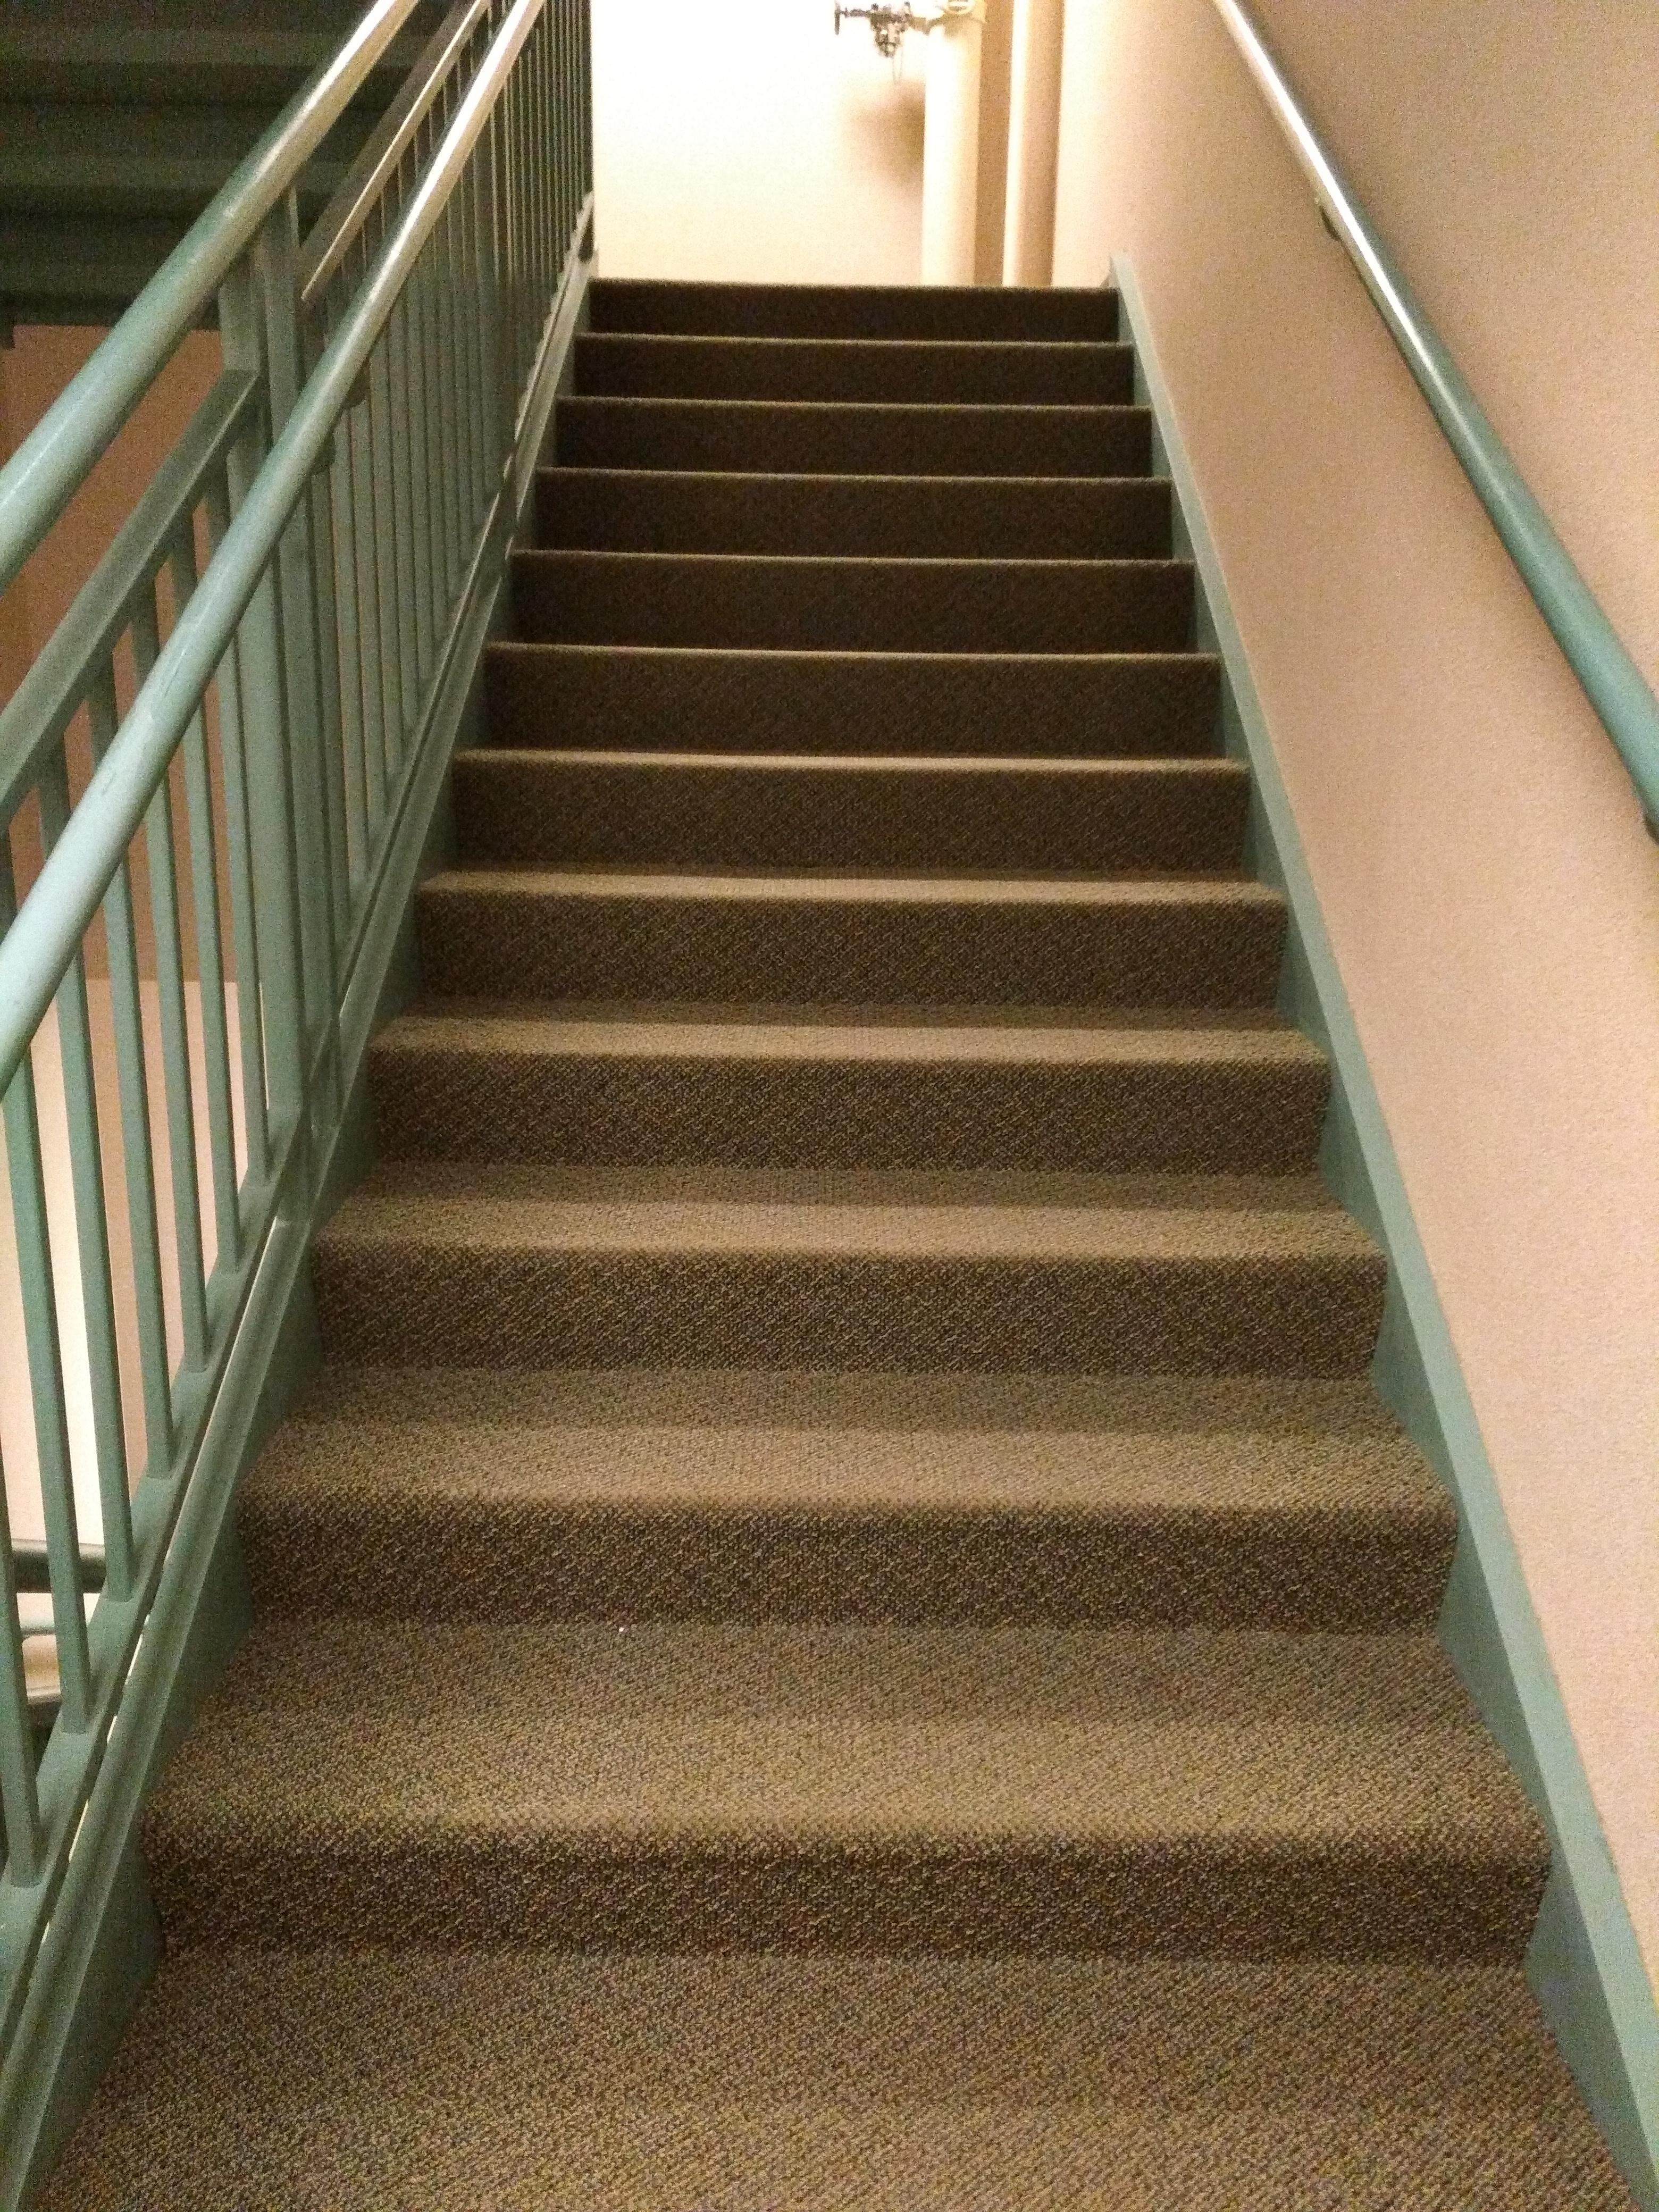stairs_up: (148, 273, 1579, 2094)
